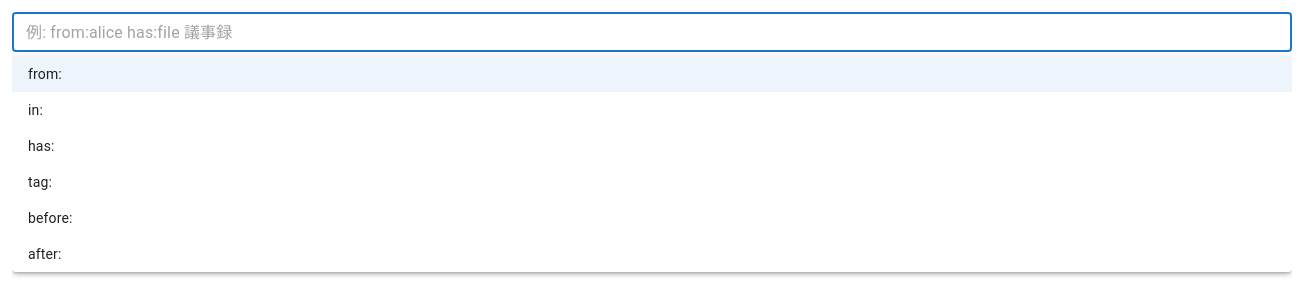
ChipFilterInput (Step 7c-1) › 検索構文オートコンプリート (Issue #326) › 値の候補表示 › "in:" を入力した直後、channels 配列のチャンネル名候補が表示される
In the field named "メッセージ検索": (652, 32) x1=12 y1=12 x2=1292 y2=52, type "in:"
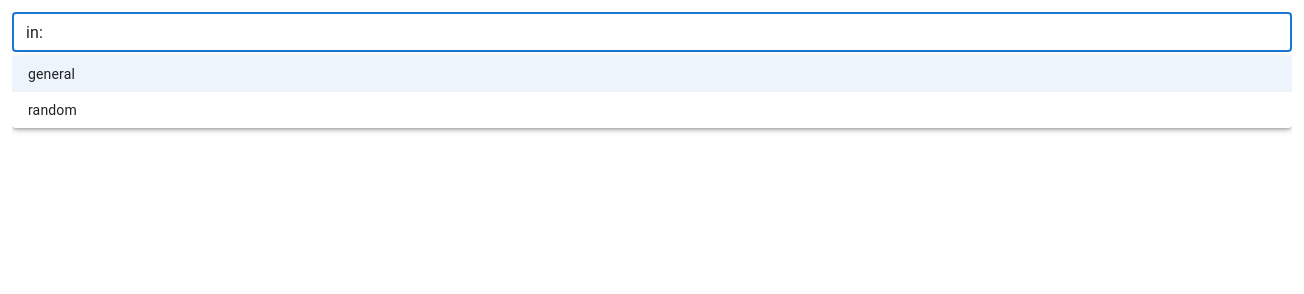
Check: the option "general" is shown, box x1=12 y1=56 x2=1292 y2=92
Check: the option "random" is shown, box x1=28 y1=102 x2=77 y2=118
